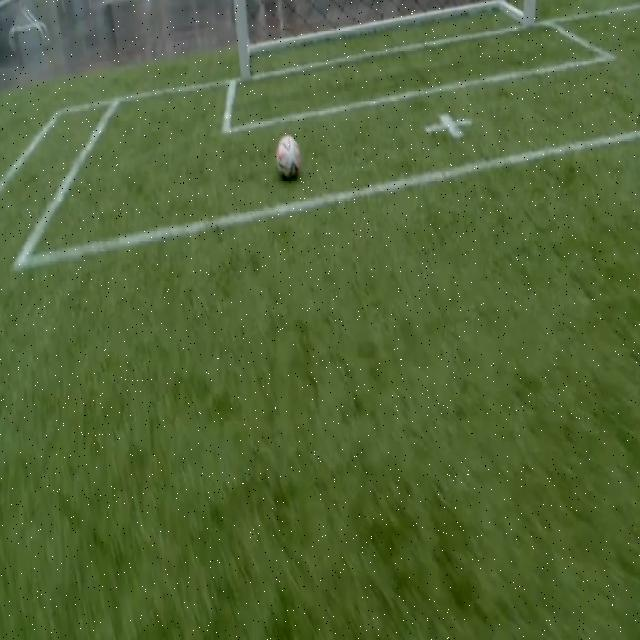ball: (277, 135, 300, 177)
goalpost: (237, 38, 255, 88), (520, 0, 537, 32)
